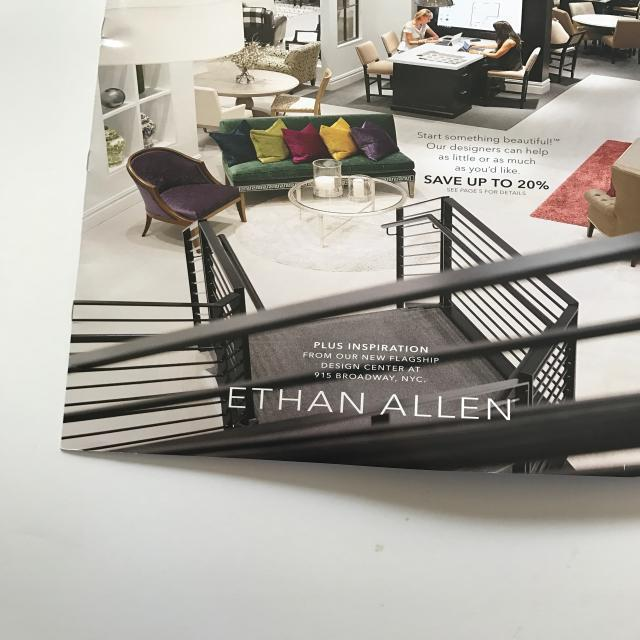paper: (61, 4, 640, 487)
